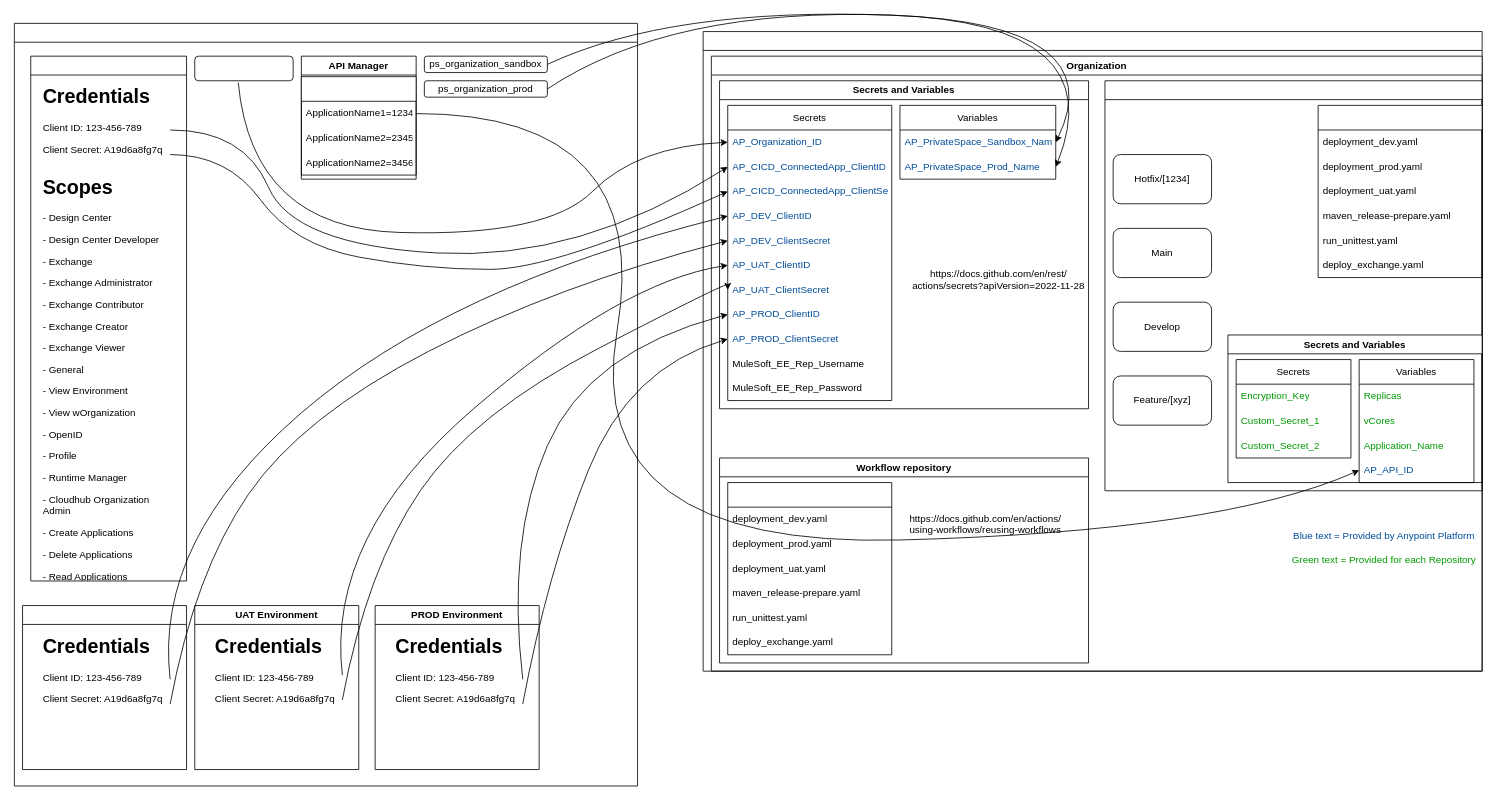
This 1501x801 diagram has some shape labels left out. The box of each missing label's shape, as (x1, y1, x2, y2) in pixels:
Anypoint Platform: (14, 23, 638, 786)
API_IDs: (301, 76, 416, 175)
Caller workflows?: (1317, 105, 1482, 278)
CICD_ConnectedApp: (30, 55, 187, 581)
DEV Environment: (22, 605, 187, 770)
Organization ID: (194, 55, 293, 81)
Repository: (1104, 80, 1482, 491)
Reusable workflows: (727, 482, 892, 655)
Source Control: (702, 31, 1482, 671)
